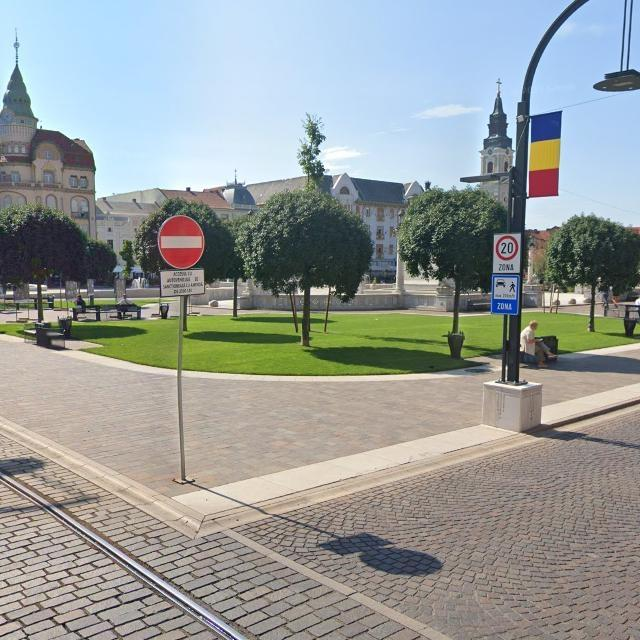forb_speed_over_20: (496, 236, 519, 261)
